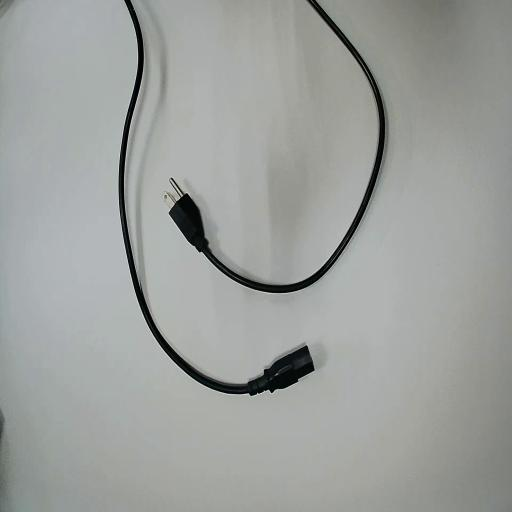wire: (120, 0, 313, 394), (171, 0, 384, 291)
